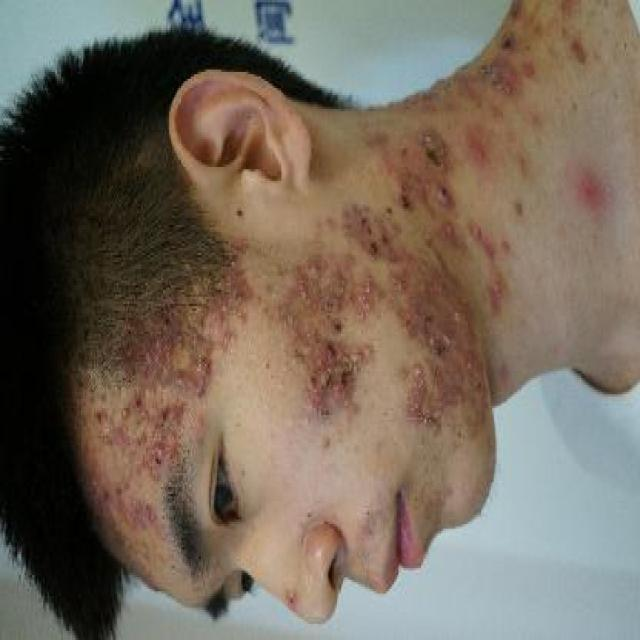papules: (174, 364, 191, 394), (512, 195, 525, 220)
pustules: (406, 354, 428, 382), (348, 346, 363, 376), (440, 327, 455, 352), (418, 225, 434, 248), (391, 278, 406, 302), (489, 276, 506, 297), (356, 302, 372, 324), (449, 304, 463, 327), (442, 220, 458, 239), (472, 216, 483, 243), (316, 369, 332, 387), (432, 406, 446, 426), (338, 350, 351, 371), (296, 285, 310, 304), (119, 406, 132, 426), (329, 260, 345, 276), (408, 402, 424, 418), (363, 344, 380, 359), (306, 260, 320, 278), (426, 332, 440, 350), (302, 341, 316, 359), (337, 316, 352, 332), (417, 438, 429, 457), (466, 357, 477, 376), (197, 371, 208, 390), (148, 441, 158, 459)
